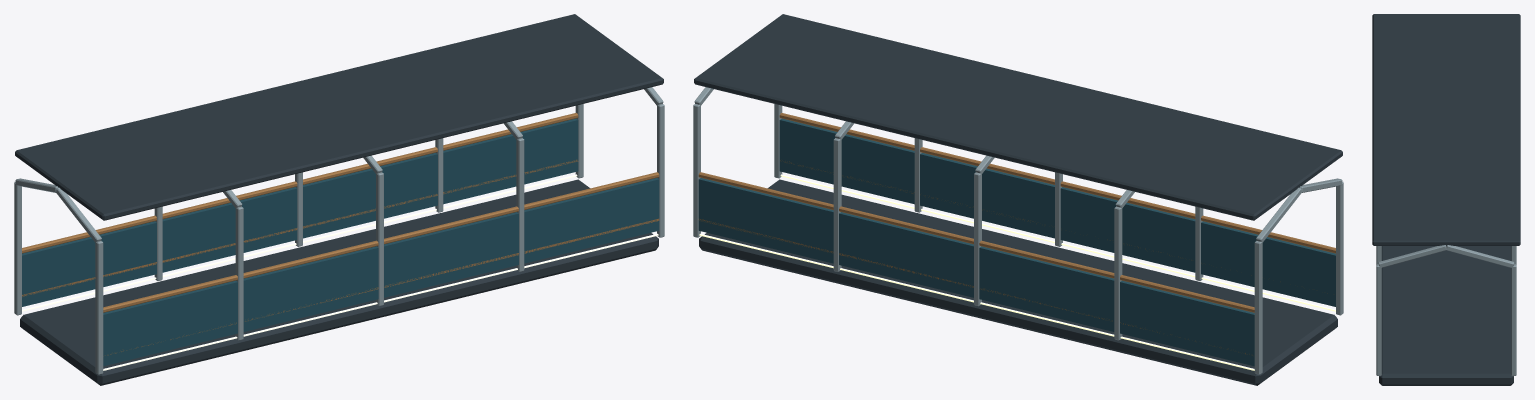
Rendered from skybridge.lod0.glb.
3 views of the same model, side by side, from view 1: azimuth 30°, elevation 25°; view 2: azimuth 150°, elevation 25°; view 3: azimuth 270°, elevation 25° (orthographic). The views are drawn at different scales.
Visible parts, largest first — view 1: structure; view 2: structure; view 3: structure.
Part boxes in pixels (<box>): structure: <box>14,14,664,385</box>; structure: <box>693,14,1343,385</box>; structure: <box>1372,14,1520,385</box>.
Bounding box in the file's own units: 16.16 × 4.79 × 4.4.
